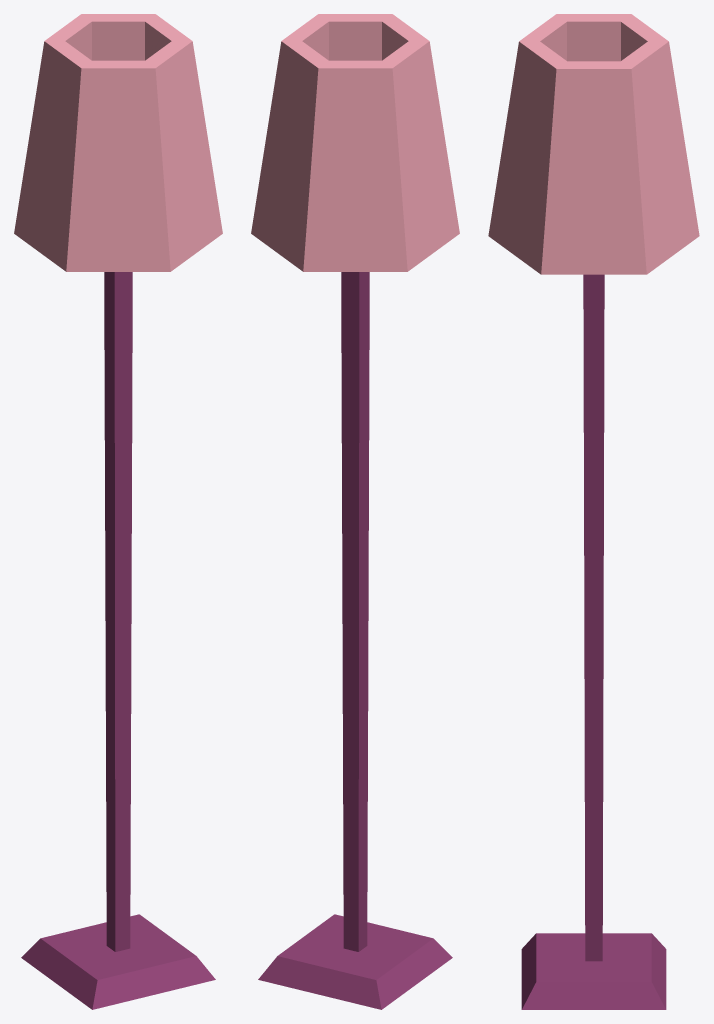
Rendered from Furniture_Lamp_TallLowPoly.fbx.
The picture shows the model from 3 angles, left to right: view 1: azimuth 30°, elevation 25°; view 2: azimuth 150°, elevation 25°; view 3: azimuth 270°, elevation 25°; orthographic projection.
Visible parts, largest first — view 1: lampRoundFloor; view 2: lampRoundFloor; view 3: lampRoundFloor.
Boxes of the visible parts, box(x1,y1,x2,y2) form: lampRoundFloor: box(14, 14, 222, 1009); lampRoundFloor: box(251, 14, 459, 1009); lampRoundFloor: box(488, 14, 699, 1009).
Bounding box in the file's own units: 43.63 × 247 × 50.38.
